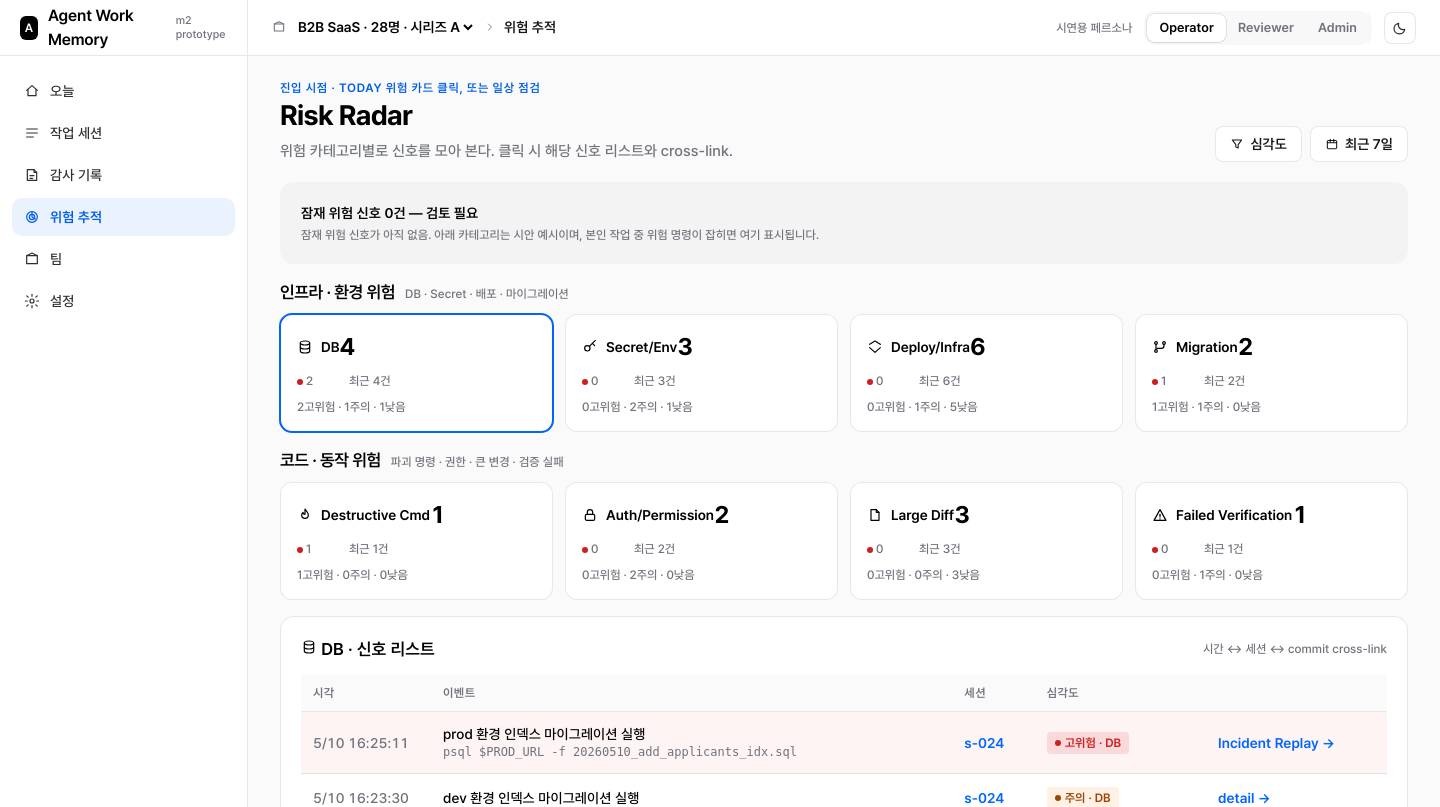
Test: AppShell + product IA › Risk switches signal list when a non-DB category tile is clicked
The image size is (1440, 807).
Click the tab "Secret/Env 3 0 최근 3건 0고위험 · 2주의 · 1낮음".
click(642, 347)  # box [565, 314, 838, 432]
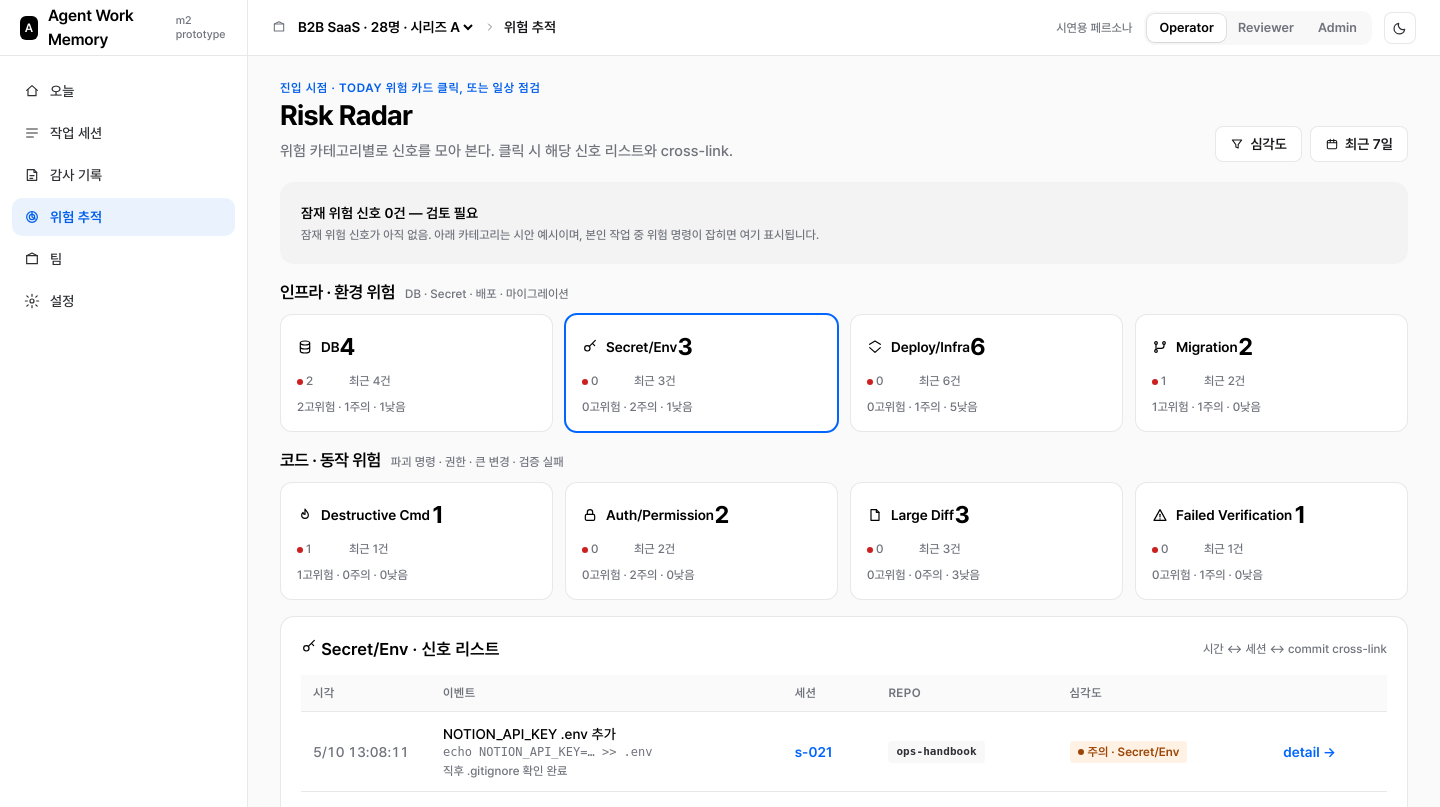
Now the text "NOTION_API_KEY .env 추가" is shown, box [443, 726, 616, 742]
Now the text "prod 환경 인덱스 마이그레이션 실행" is gone
Now the heading "Secret/Env · 신호 리스트" is shown, box [301, 637, 500, 661]
